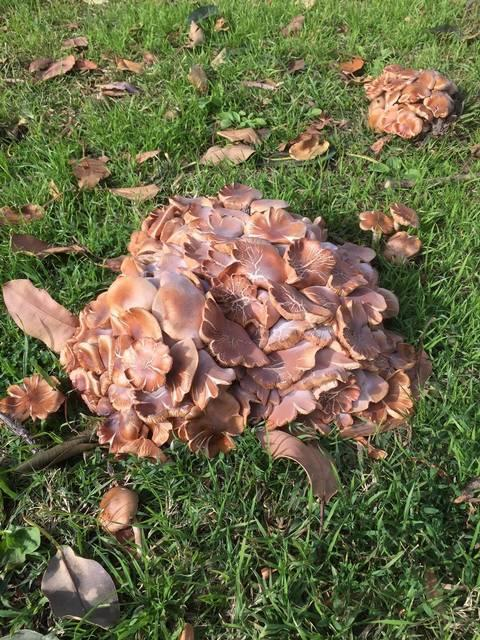edible_mushroom: (56, 181, 432, 513), (356, 58, 459, 147), (96, 485, 143, 559)
